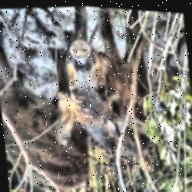boar: (54, 8, 186, 183)
